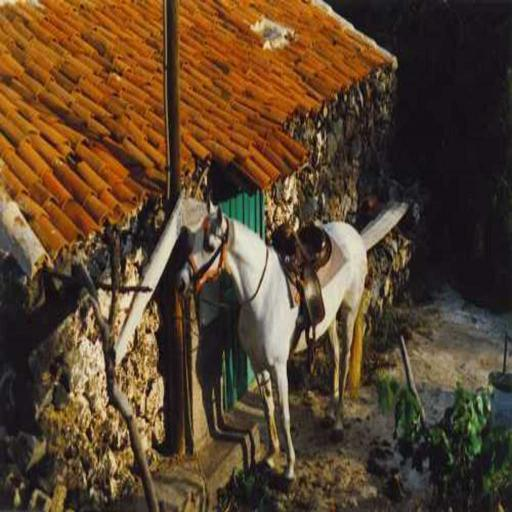horse: (175, 192, 369, 488)
